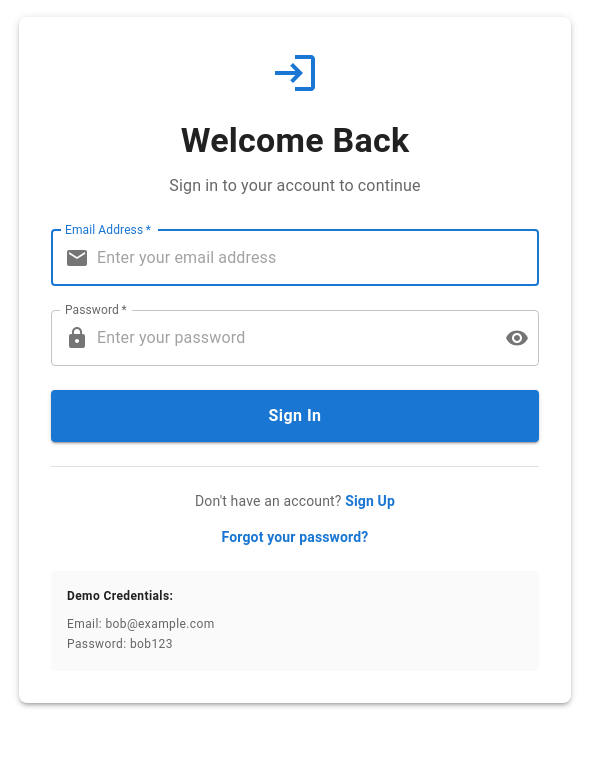
Test: LoginPage › clears field errors when user starts typing
The width and height of the screenshot is (591, 770).
Note: Trigger validation error
Step 1. Click the button "Sign In" → (295, 416), box [51, 390, 539, 442]
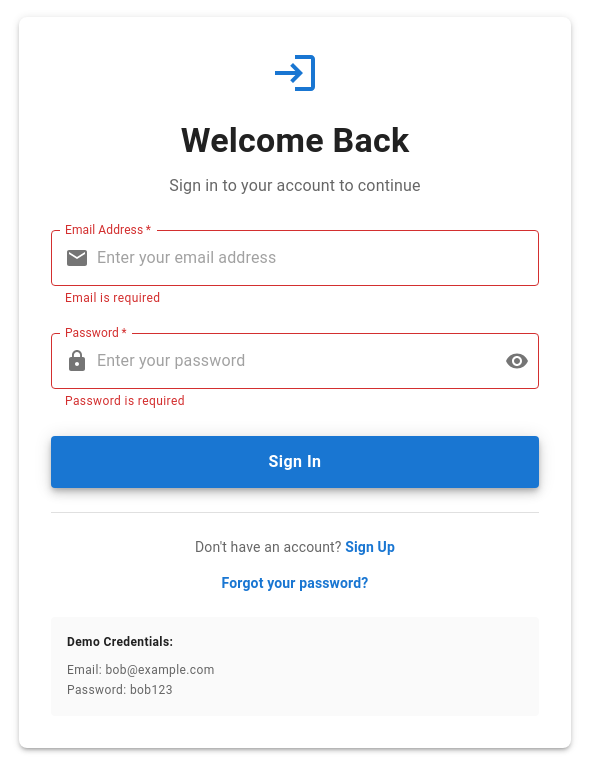
Now the text "Email is required" is shown, box [65, 291, 160, 305]
Note: Start typing in email field
Step 2. Type "test" into the field labelled "Email Address *" → (318, 258), box [97, 230, 539, 286]
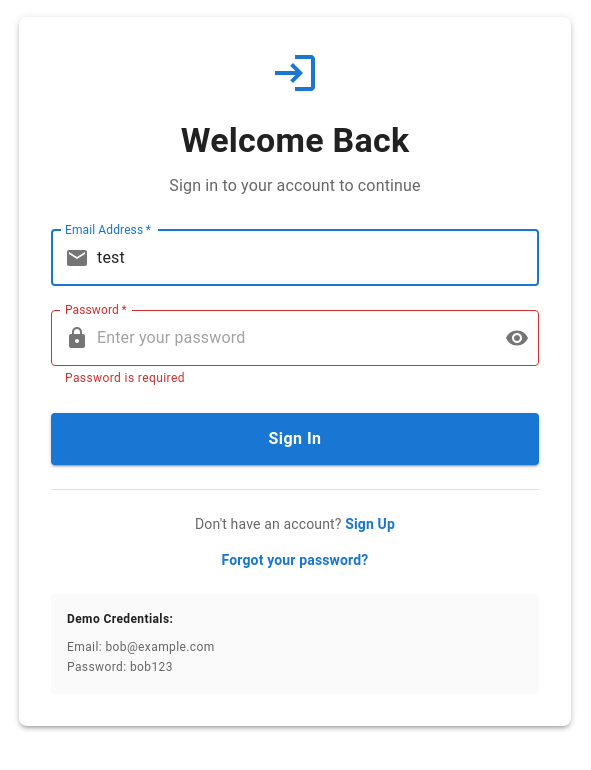
Now the text "Email is required" is gone
